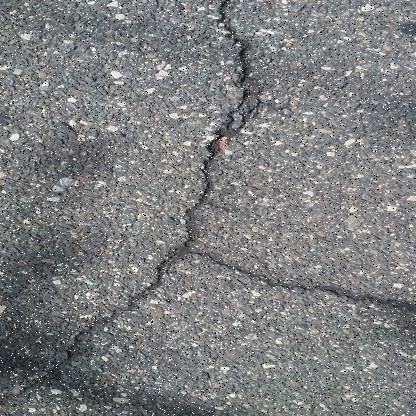Cracks: (0, 0, 272, 415), (169, 231, 415, 330)
